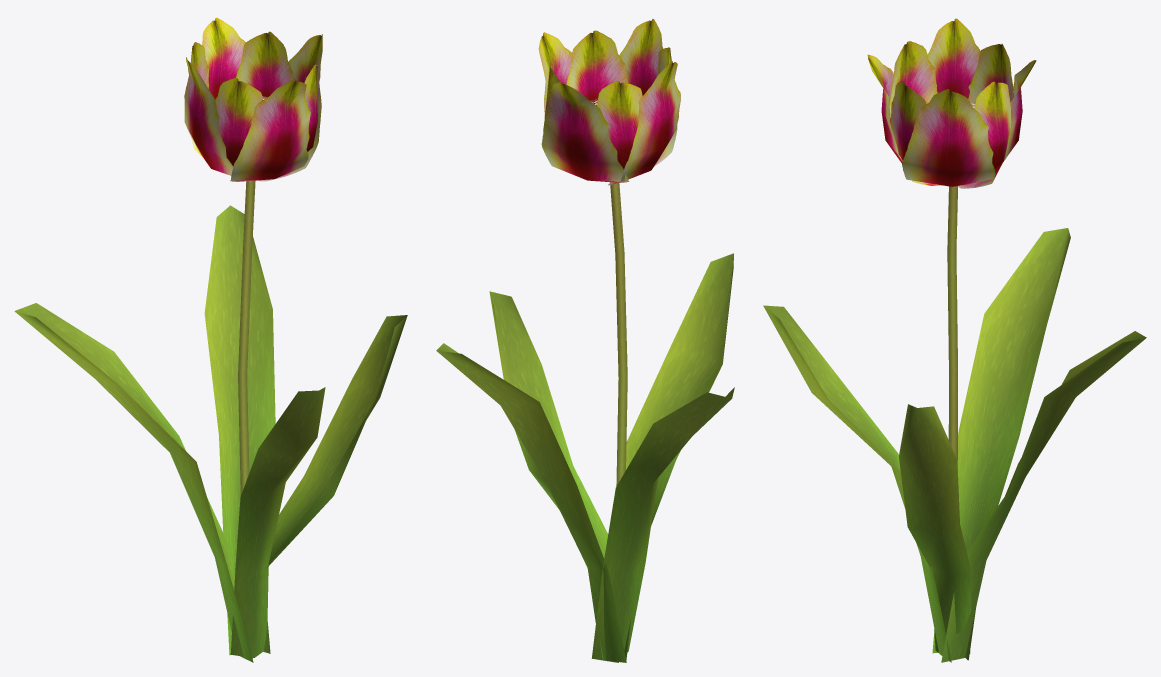
File: m_flower23.fbx
3 views of the same model, side by side, from view 1: azimuth 30°, elevation 25°; view 2: azimuth 150°, elevation 25°; view 3: azimuth 270°, elevation 25° (orthographic).
Parts seen in each view (by area): view 1: mesh_flower23; view 2: mesh_flower23; view 3: mesh_flower23.
Part boxes in pixels (<box>): mesh_flower23: <box>14,17,407,662</box>; mesh_flower23: <box>436,19,734,662</box>; mesh_flower23: <box>763,18,1146,662</box>.
Bounding box in the file's own units: 0.2273 × 0.4208 × 0.2389.
1 material, 1 textured.
